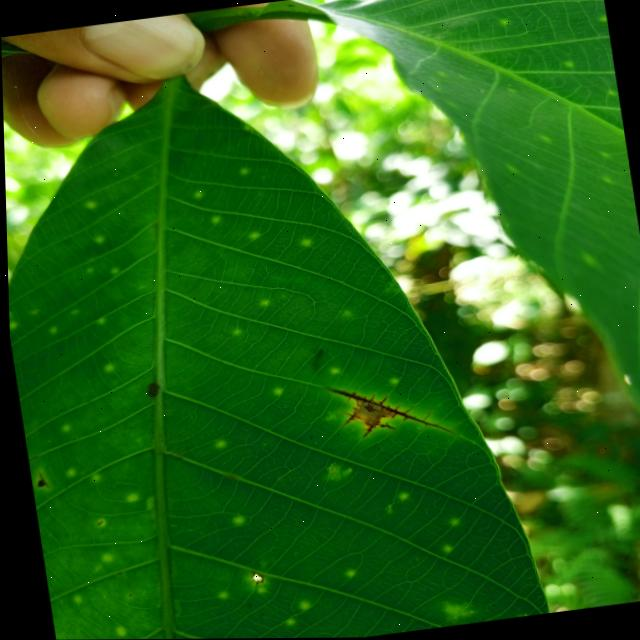Corynespora: (322, 371, 453, 450)
